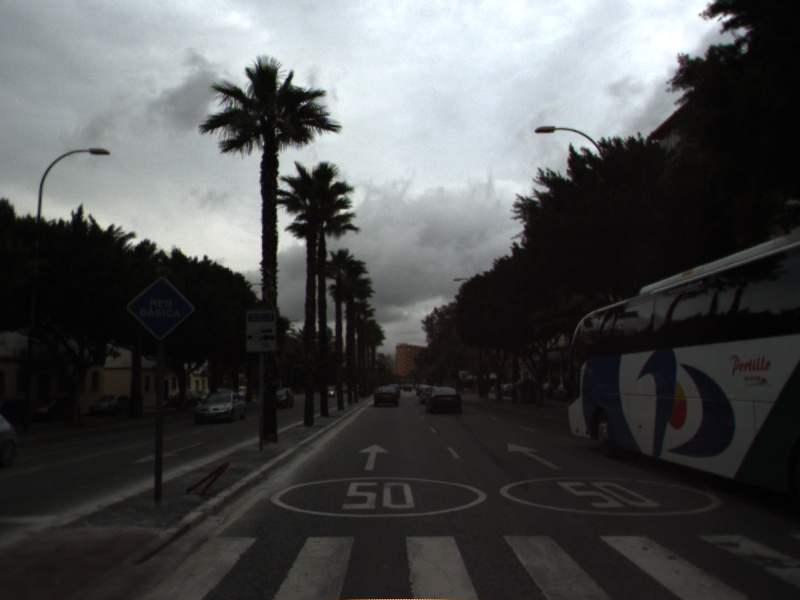STRAIGHT: (505, 441, 565, 472), (356, 441, 391, 472)
